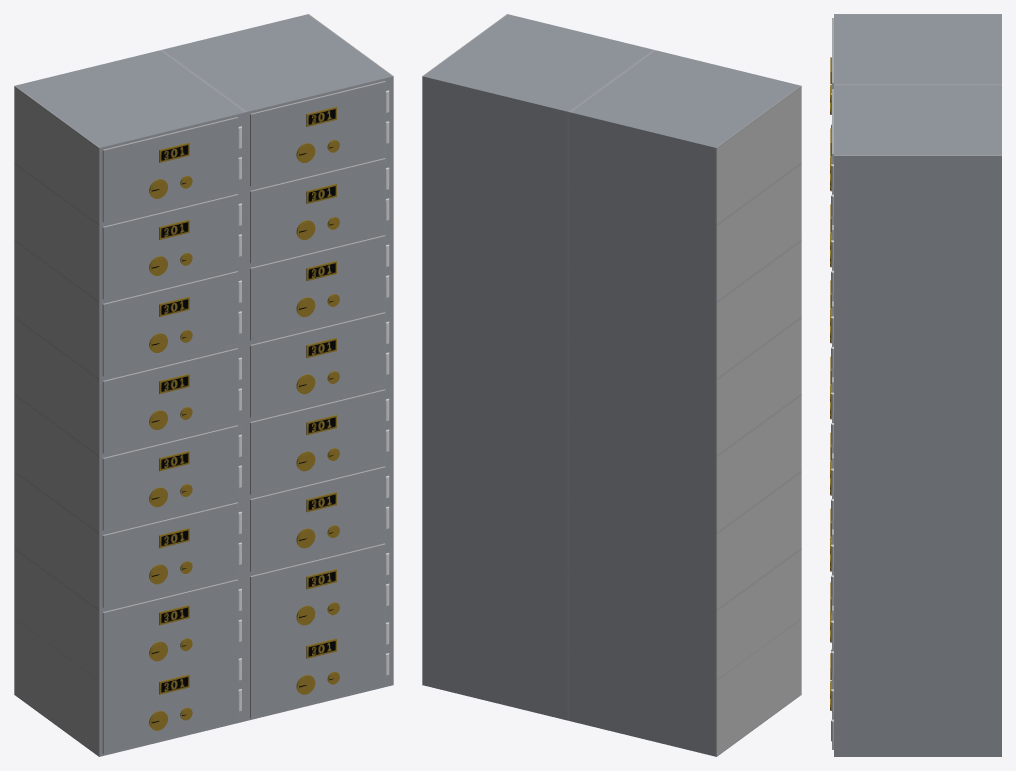
File: Wall_Lockers_Module.fbx
3 views of the same model, side by side, from view 1: azimuth 30°, elevation 25°; view 2: azimuth 150°, elevation 25°; view 3: azimuth 270°, elevation 25° (orthographic).
Visible parts, largest first — view 1: Safety_Box_Container1_Case14, Safety_Box_Container1_Case15, Safety_Box_Container1_Case4, Safety_Box_Container1_Case10, Safety_Box_Container1_Case6, Safety_Box_Container1_Case12, Safety_Box_Container1_Case8, Safety_Box_Container1_Case1, Safety_Box_Container1_Case2, Safety_Box_Container1_Case5, Safety_Box_Container1_Case9, Safety_Box_Container1_Case7 (+4 smaller); view 2: Safety_Box_Container1_Case14, Safety_Box_Container1_Case15, Safety_Box_Container1_Case4, Safety_Box_Container1_Case10, Safety_Box_Container1_Case6, Safety_Box_Container1_Case12, Safety_Box_Container1_Case8, Safety_Box_Container1_Case1, Safety_Box_Container1_Case2, Safety_Box_Container1_Case5, Safety_Box_Container1_Case9, Safety_Box_Container1_Case7 (+4 smaller); view 3: Safety_Box_Container1_Case15, Safety_Box_Container1_Case5, Safety_Box_Container1_Case7, Safety_Box_Container1_Case9, Safety_Box_Container1_Case11, Safety_Box_Container1_Case3, Safety_Box_Container1_Case13, Safety_Box_Container1_Case14, Safety_Box_Container1_Case.
Part boxes in pixels (box(x1,y1,x2,y2)): Safety_Box_Container1_Case14: box(14, 50, 246, 224); Safety_Box_Container1_Case15: box(162, 14, 393, 188); Safety_Box_Container1_Case4: box(14, 471, 246, 610); Safety_Box_Container1_Case10: box(14, 240, 246, 379); Safety_Box_Container1_Case6: box(14, 394, 246, 533); Safety_Box_Container1_Case12: box(14, 163, 246, 302); Safety_Box_Container1_Case8: box(14, 317, 246, 456); Safety_Box_Container1_Case1: box(14, 618, 246, 756); Safety_Box_Container1_Case2: box(14, 548, 246, 683); Safety_Box_Container1_Case5: box(246, 461, 393, 574); Safety_Box_Container1_Case9: box(246, 307, 393, 420); Safety_Box_Container1_Case7: box(246, 384, 393, 497); Safety_Box_Container1_Case14: box(569, 50, 801, 224); Safety_Box_Container1_Case15: box(422, 14, 653, 188); Safety_Box_Container1_Case4: box(569, 471, 801, 610); Safety_Box_Container1_Case10: box(569, 240, 801, 379); Safety_Box_Container1_Case6: box(569, 394, 801, 533); Safety_Box_Container1_Case12: box(569, 163, 801, 302); Safety_Box_Container1_Case8: box(569, 317, 801, 456); Safety_Box_Container1_Case1: box(569, 618, 801, 756); Safety_Box_Container1_Case2: box(569, 548, 801, 682); Safety_Box_Container1_Case5: box(422, 461, 569, 574); Safety_Box_Container1_Case9: box(422, 307, 569, 420); Safety_Box_Container1_Case7: box(422, 384, 569, 497); Safety_Box_Container1_Case15: box(830, 85, 1001, 231); Safety_Box_Container1_Case5: box(830, 508, 1001, 612); Safety_Box_Container1_Case7: box(830, 432, 1001, 536); Safety_Box_Container1_Case9: box(830, 356, 1001, 460); Safety_Box_Container1_Case11: box(830, 280, 1001, 384); Safety_Box_Container1_Case3: box(830, 584, 1001, 688); Safety_Box_Container1_Case13: box(830, 204, 1001, 307); Safety_Box_Container1_Case14: box(830, 14, 1001, 128); Safety_Box_Container1_Case: box(830, 653, 1001, 756).
Size of the model in its own units: 1 by 1.98 by 0.5122.
1 material, 1 textured.
